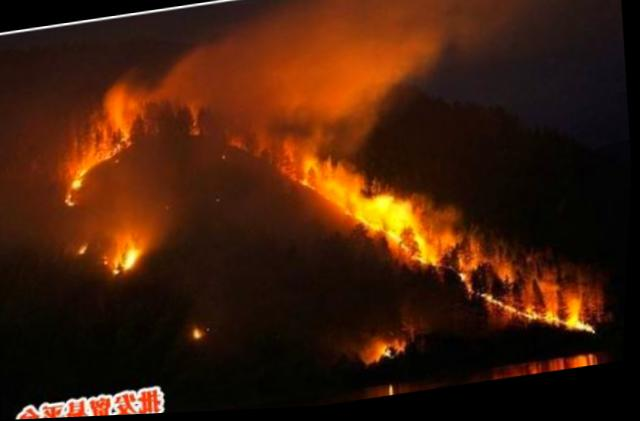fire: (41, 23, 624, 404)
